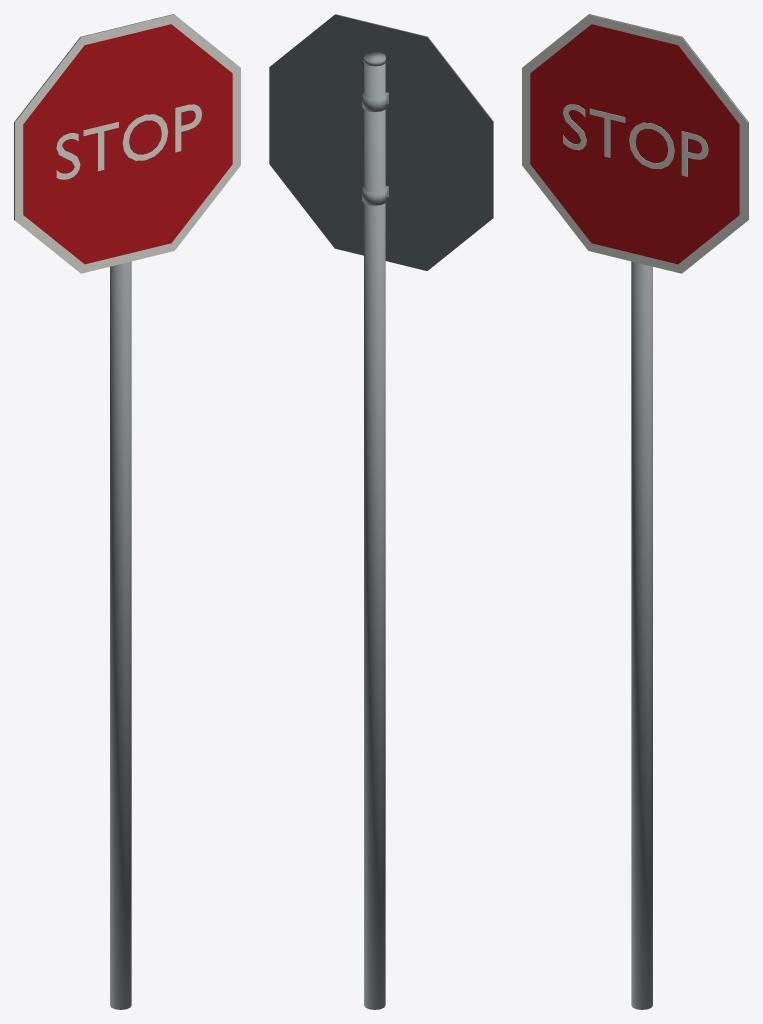
Rendered from PlacaStopPoste.fbx.
The picture shows the model from 3 angles, left to right: view 1: azimuth 30°, elevation 25°; view 2: azimuth 150°, elevation 25°; view 3: azimuth 330°, elevation 25°; orthographic projection.
Parts seen in each view (by area): view 1: PlacaStopPoste; view 2: PlacaStopPoste; view 3: PlacaStopPoste.
Boxes of the visible parts, x1,y1,x2,y2 form: PlacaStopPoste: (14,14,240,1009); PlacaStopPoste: (269,14,493,1009); PlacaStopPoste: (522,14,748,1009).
Bounding box in the file's own units: 0.6 × 2.5 × 0.064.
